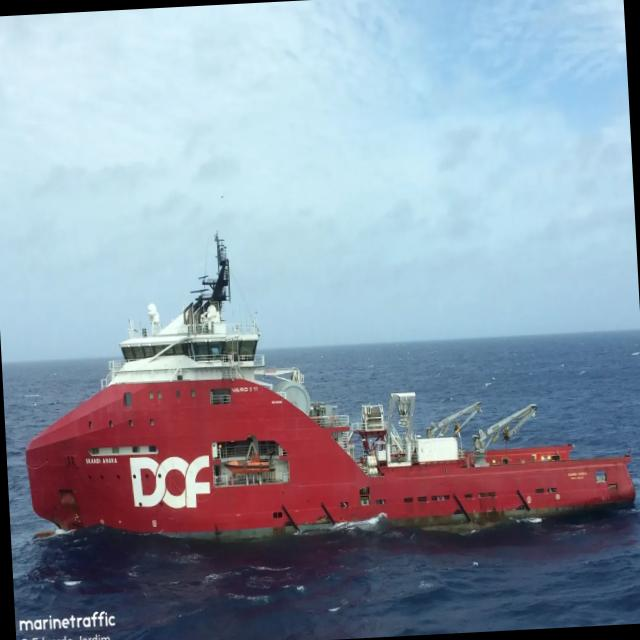Offshore: (26, 236, 634, 534)
